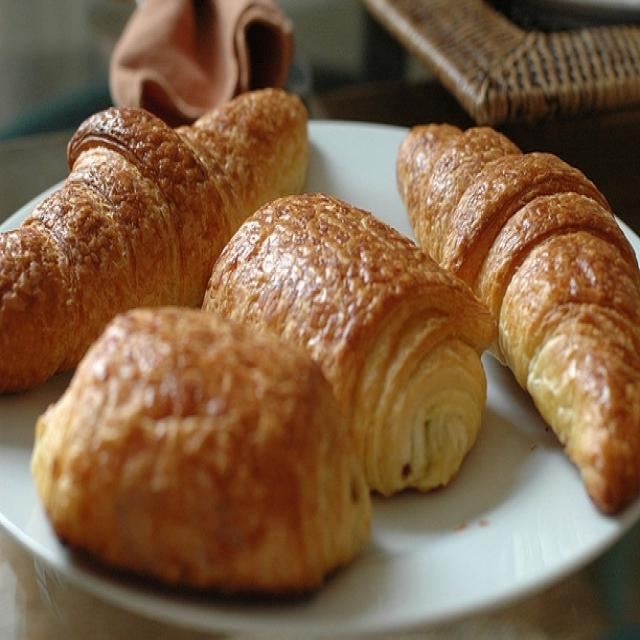Bread: (0, 76, 314, 391)
